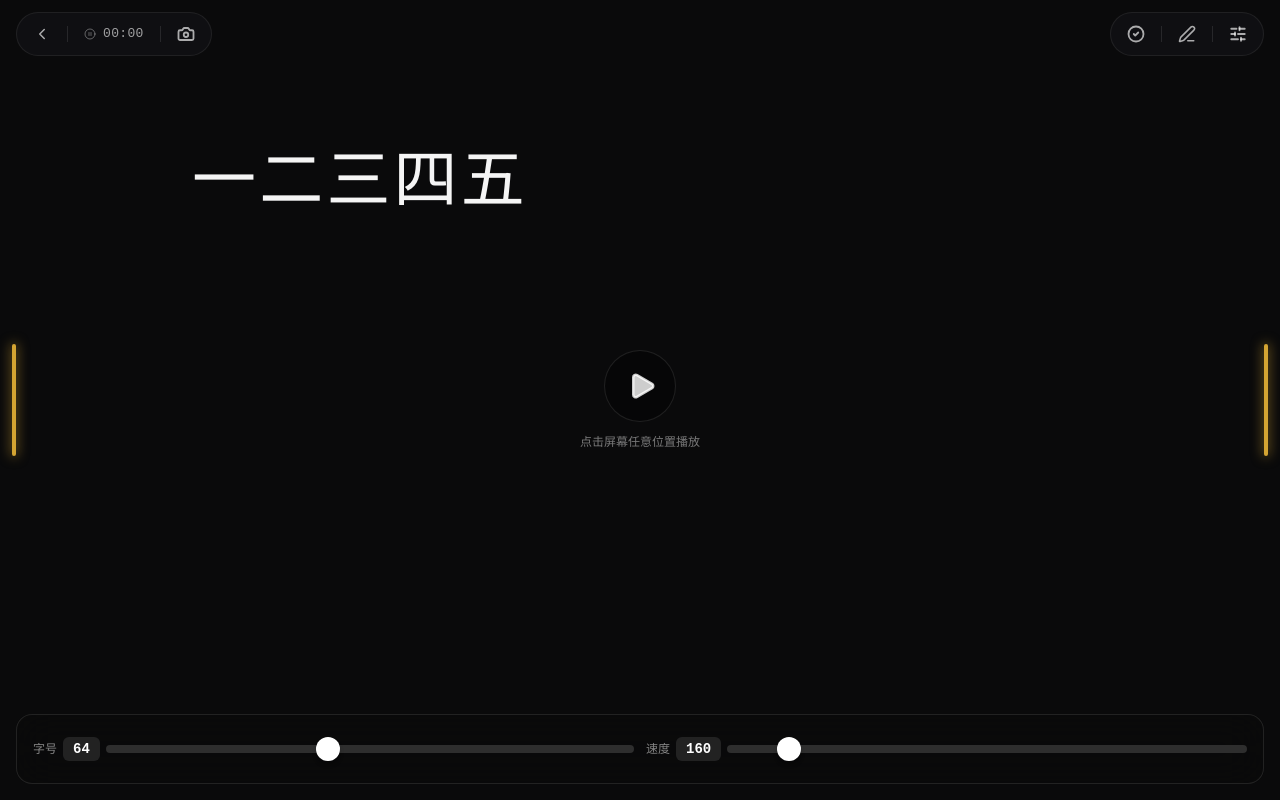
Test case: Teleprompter 双指捏合调字号 › 捏合过程连续移动持续生效（字号变化不中断手势）
The image size is (1280, 800).
Press the mouse on the element with class "teleprompter-touch" at (360, 178), box [192,140,528,217]
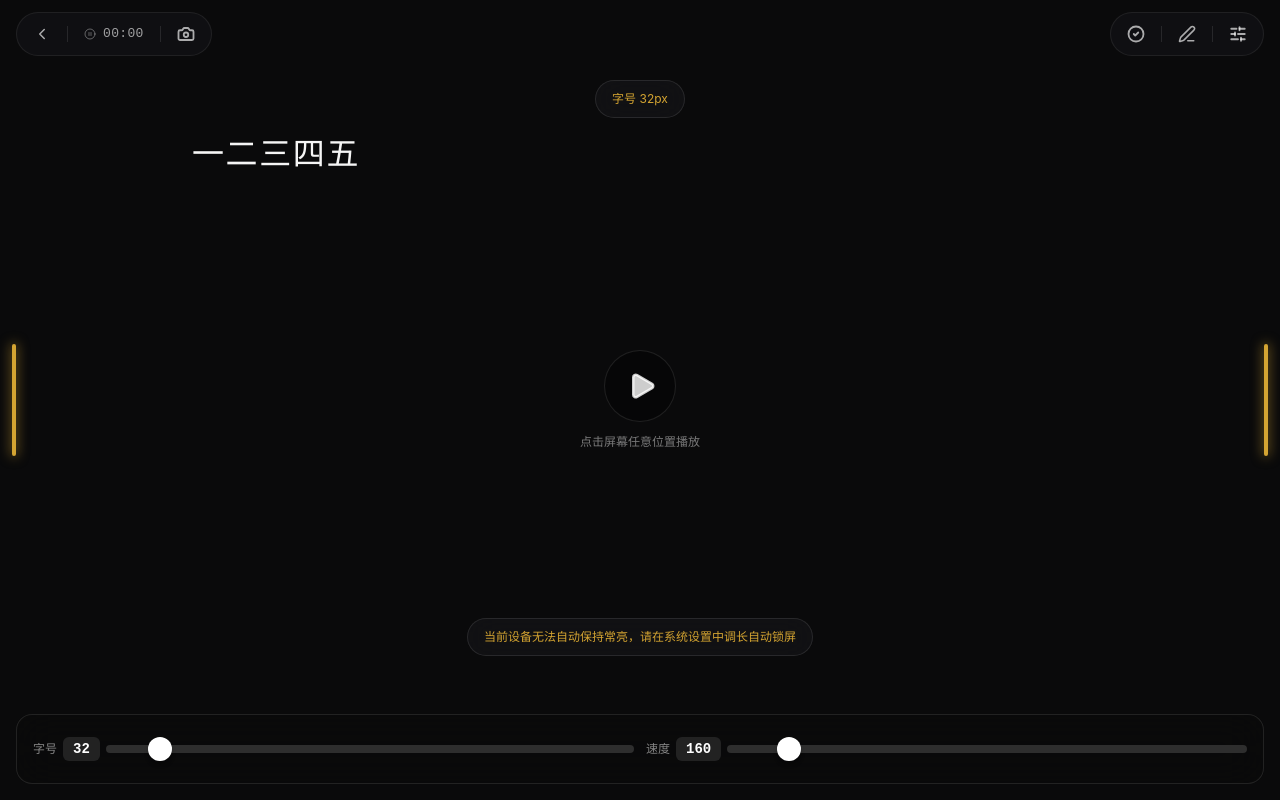
Expected: the text "32" is shown, [63,737,100,761]
